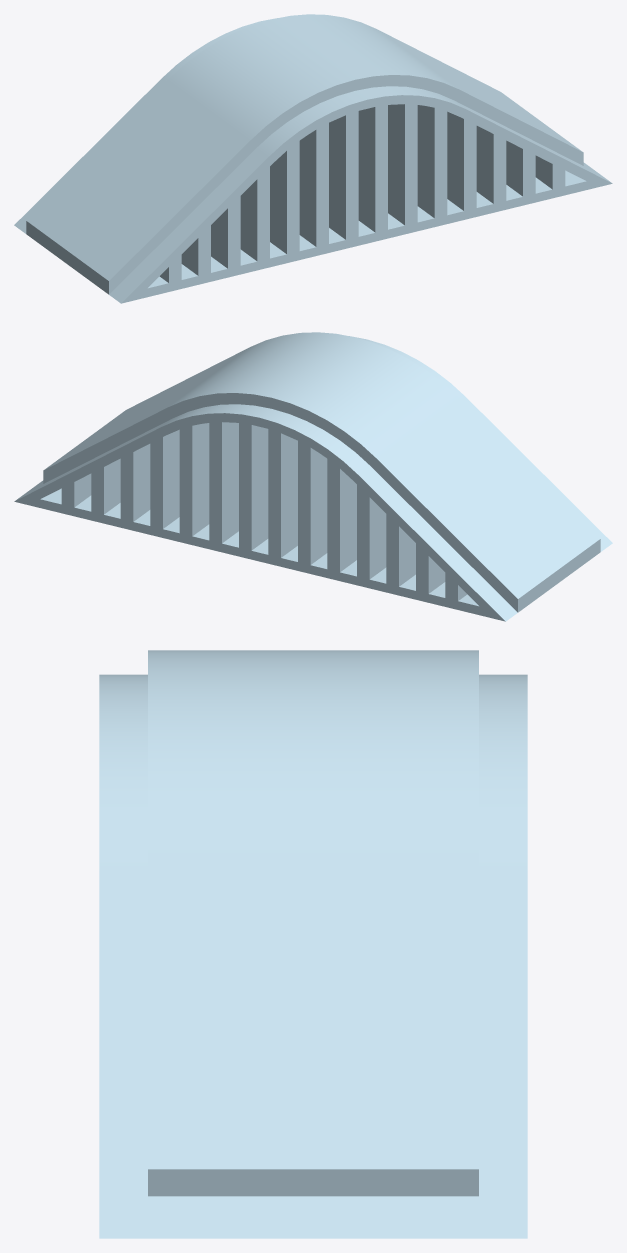
3 renders of one model, top to bottom at view 1: azimuth 30°, elevation 25°; view 2: azimuth 150°, elevation 25°; view 3: azimuth 270°, elevation 25°, orthographic. The views are drawn at different scales.
Parts seen in each view (by area): view 1: mesh611, mesh609, mesh608, mesh606, mesh601, mesh602, mesh605, mesh645, mesh647, mesh660, mesh649, mesh662 (+12 smaller); view 2: mesh612, mesh609, mesh608, mesh607, mesh598, mesh599, mesh605, mesh645, mesh647, mesh660, mesh649, mesh662 (+12 smaller); view 3: mesh605, mesh608, mesh603, mesh599, mesh602, mesh604.
Boxes of the visible parts, box(x1,y1,x2,y2) form: mesh611: box(121, 95, 612, 303); mesh609: box(26, 80, 249, 280); mesh608: box(168, 14, 457, 140); mesh606: box(109, 75, 583, 294); mesh601: box(109, 148, 268, 303); mesh602: box(257, 86, 464, 156); mesh605: box(377, 29, 582, 151); mesh645: box(358, 107, 375, 232); mesh647: box(388, 104, 404, 225); mesh660: box(329, 115, 345, 239); mesh649: box(417, 105, 434, 217); mesh662: box(299, 130, 316, 246); mesh612: box(14, 413, 505, 621); mesh609: box(377, 398, 600, 598); mesh608: box(169, 332, 458, 458); mesh607: box(43, 393, 517, 612); mesh598: box(358, 466, 517, 621); mesh599: box(162, 404, 369, 474); mesh605: box(44, 347, 249, 469); mesh645: box(251, 425, 268, 550); mesh647: box(222, 422, 238, 543); mesh660: box(281, 433, 297, 557); mesh649: box(192, 423, 209, 535); mesh662: box(310, 448, 327, 564); mesh605: box(148, 861, 478, 1169); mesh608: box(148, 650, 478, 860); mesh603: box(99, 873, 527, 1238); mesh599: box(479, 674, 527, 872); mesh602: box(99, 674, 147, 872); mesh604: box(148, 1169, 478, 1196).
Bounding box in the file's own units: 0.0741 × 0.0223 × 0.0279.
